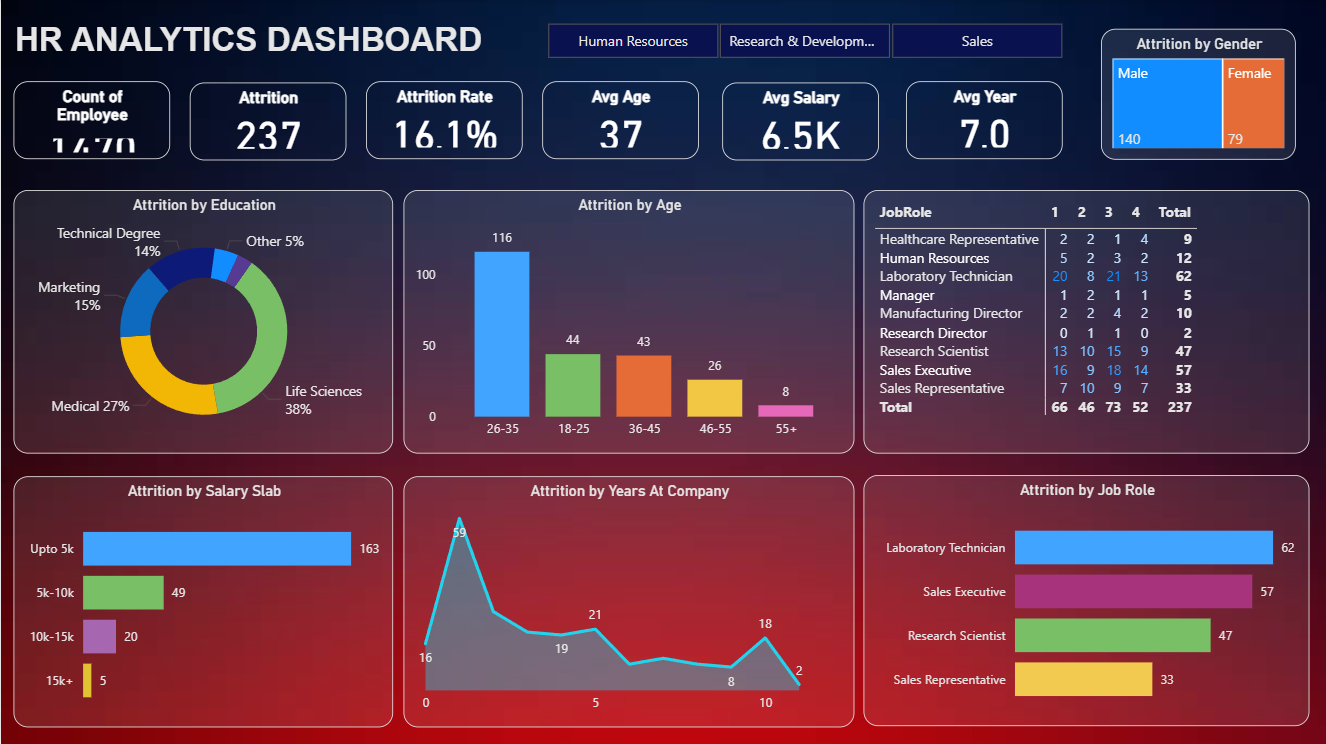

The dashboard page shown, as its layout file describes it:
{"tool":"powerbi","page":{"name":"Page 1","canvas":[1280,720],"ordinal":0},"visuals":[{"type":"card","title":"Count of Employee","fields":{"Values":["CountNonNull(HR_Analytics.EmpID)"]},"box":[12,78.6,151,75.5],"z":0},{"type":"card","title":"Attrition","fields":{"Values":["Sum(HR_Analytics.AttritionCount)"]},"box":[182.2,80,151,75.5],"z":1000},{"type":"card","title":"Attrition Rate","fields":{"Values":["HR_Analytics.AttritionRate"]},"box":[352.3,78.6,151,75.5],"z":2000},{"type":"card","title":"Avg Age","fields":{"Values":["Avg(HR_Analytics.Age)"]},"box":[522.5,78.6,151,75.5],"z":3000},{"type":"card","title":"Avg Salary","fields":{"Values":["Avg(HR_Analytics.MonthlyIncome)"]},"box":[695.6,79.1,151,75],"z":4000},{"type":"card","title":"Avg Year","fields":{"Values":["Avg(HR_Analytics.YearsAtCompany)"]},"box":[873.5,78.4,151,75],"z":5000},{"type":"donutChart","title":"Attrition by Education","fields":{"Category":["HR_Analytics.EducationField"],"Y":["Sum(HR_Analytics.AttritionCount)"]},"box":[12.1,183,365,254.6],"z":6000},{"type":"columnChart","title":"Attrition by Age","fields":{"Category":["HR_Analytics.AgeGroup"],"Y":["Sum(HR_Analytics.AttritionCount)"]},"box":[388.5,183.4,435.5,254.6],"z":7000},{"type":"pivotTable","fields":{"Values":["Sum(HR_Analytics.AttritionCount)"],"Rows":["HR_Analytics.JobRole"],"Columns":["HR_Analytics.JobSatisfaction"]},"box":[832.4,183.4,430.7,254.6],"z":8000},{"type":"barChart","title":"Attrition by Salary Slab","fields":{"Category":["HR_Analytics.SalarySlab"],"Y":["Sum(HR_Analytics.AttritionCount)"]},"box":[12.1,459.7,366.8,242.5],"z":9000},{"type":"barChart","title":"Attrition by Job Role","fields":{"Y":["Sum(HR_Analytics.AttritionCount)"],"Category":["HR_Analytics.JobRole"]},"box":[832.4,458.4,430.7,242.5],"z":10000},{"type":"areaChart","title":"Attrition by Years At Company","fields":{"Category":["HR_Analytics.YearsAtCompany"],"Y":["Sum(HR_Analytics.AttritionCount)"]},"box":[388.5,459.7,435.5,242.5],"z":11000},{"type":"treemap","title":"Attrition by Gender","fields":{"Group":["HR_Analytics.Gender"],"Values":["Sum(HR_Analytics.AttritionCount)"]},"box":[1061.7,27.7,188.2,126.7],"z":12000},{"type":"slicer","fields":{"Values":["HR_Analytics.Department"]},"box":[501.9,15.7,546.5,47.1],"z":13000},{"type":"textbox","box":[7.9,15.2,494.6,50.7],"z":14000}]}

Visuals, with their boxes in screenshot pixels (x1, y1, x2, y2), scaled from the page's 1280x720 canvas onto the 1326x744 screenshot:
"Count of Employee" card: select_region(12, 81, 169, 159)
"Attrition" card: select_region(189, 83, 345, 161)
"Attrition Rate" card: select_region(365, 81, 521, 159)
"Avg Age" card: select_region(541, 81, 698, 159)
"Avg Salary" card: select_region(721, 82, 877, 159)
"Avg Year" card: select_region(905, 81, 1061, 159)
"Attrition by Education" donutChart: select_region(13, 189, 391, 452)
"Attrition by Age" columnChart: select_region(402, 190, 854, 453)
pivotTable - Sum(HR_Analytics.AttritionCount) x HR_Analytics.JobRole: select_region(862, 190, 1308, 453)
"Attrition by Salary Slab" barChart: select_region(13, 475, 393, 726)
"Attrition by Job Role" barChart: select_region(862, 474, 1308, 724)
"Attrition by Years At Company" areaChart: select_region(402, 475, 854, 726)
"Attrition by Gender" treemap: select_region(1100, 29, 1295, 160)
slicer - HR_Analytics.Department: select_region(520, 16, 1086, 65)
textbox: select_region(8, 16, 521, 68)
